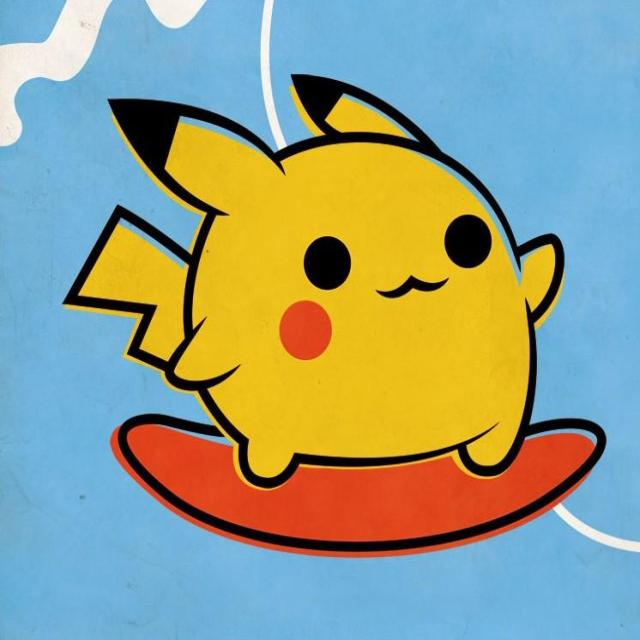pikachu: (80, 76, 556, 482)
